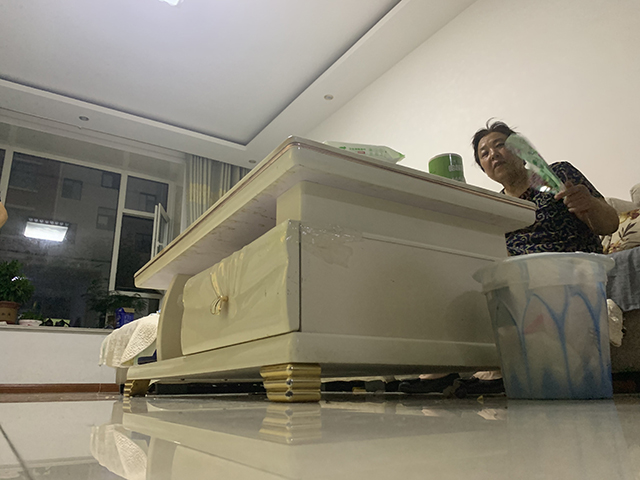table: (121, 132, 538, 403)
trashcan: (469, 249, 620, 403)
